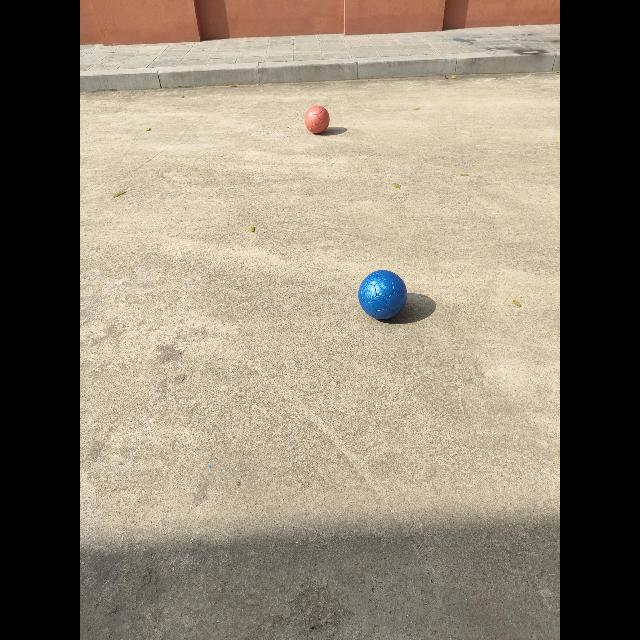B: (359, 270, 408, 319)
R: (305, 105, 330, 134)
